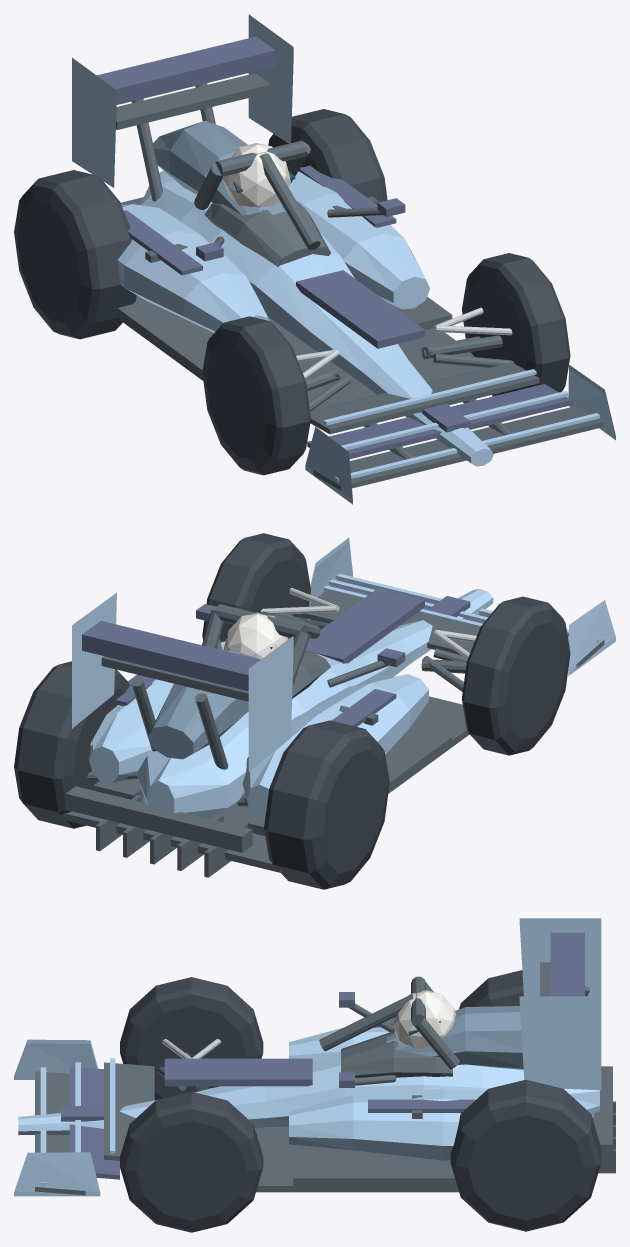
The model's file is bugatti_mobile.glb.
3 views of the same model, one above another, from view 1: azimuth 30°, elevation 25°; view 2: azimuth 150°, elevation 25°; view 3: azimuth 270°, elevation 25° (orthographic). The views are drawn at different scales.
Visible parts, largest first — view 1: BODY_paint, BODY_carbon, BODY_accent, RearLeftWheel_rubber, FrontLeftWheel_rubber, FrontRightWheel_rubber, RearRightWheel_rubber, BODY_paint_dark, BODY_helmet, BODY_metal; view 2: BODY_paint, BODY_carbon, RearLeftWheel_rubber, FrontLeftWheel_rubber, BODY_accent, RearRightWheel_rubber, FrontRightWheel_rubber, BODY_paint_dark, BODY_helmet, BODY_metal; view 3: BODY_paint, BODY_carbon, RearRightWheel_rubber, FrontRightWheel_rubber, BODY_accent, FrontLeftWheel_rubber, BODY_paint_dark, BODY_helmet, RearLeftWheel_rubber.
Part boxes in pixels (x1,y1,x2,y2): BODY_paint: [72, 14, 615, 504]; BODY_carbon: [116, 73, 603, 490]; BODY_accent: [97, 36, 572, 458]; RearLeftWheel_rubber: [14, 170, 136, 339]; FrontLeftWheel_rubber: [202, 316, 310, 475]; FrontRightWheel_rubber: [462, 253, 570, 396]; RearRightWheel_rubber: [268, 109, 387, 202]; BODY_paint_dark: [153, 120, 285, 215]; BODY_helmet: [223, 143, 290, 207]; BODY_metal: [296, 307, 512, 379]; BODY_paint: [72, 537, 615, 821]; BODY_carbon: [56, 579, 604, 877]; RearLeftWheel_rubber: [264, 720, 389, 889]; FrontLeftWheel_rubber: [462, 596, 570, 755]; BODY_accent: [82, 585, 483, 726]; RearRightWheel_rubber: [14, 661, 130, 828]; FrontRightWheel_rubber: [202, 533, 310, 641]; BODY_paint_dark: [148, 650, 260, 759]; BODY_helmet: [223, 612, 288, 659]; BODY_metal: [90, 587, 476, 746]; BODY_paint: [14, 918, 601, 1196]; BODY_carbon: [35, 962, 615, 1195]; RearRightWheel_rubber: [450, 1079, 601, 1231]; FrontRightWheel_rubber: [120, 1091, 263, 1232]; BODY_accent: [61, 932, 584, 1179]; FrontLeftWheel_rubber: [120, 977, 263, 1100]; BODY_paint_dark: [386, 1006, 523, 1069]; BODY_helmet: [393, 990, 456, 1049]; RearLeftWheel_rubber: [459, 970, 523, 1009].
Size of the model in its own units: 2.59 by 1.9 by 4.88.
